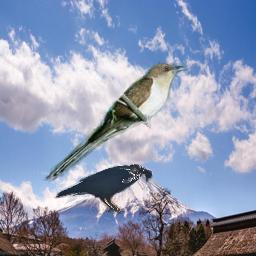Crow: (54, 163, 153, 214)
Cuckoo: (43, 61, 190, 186)
